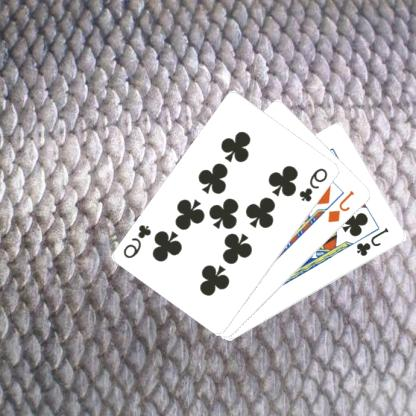9C: (298, 165, 332, 203), (122, 221, 155, 260)
JC: (356, 225, 392, 258)
JD: (327, 188, 358, 224)
